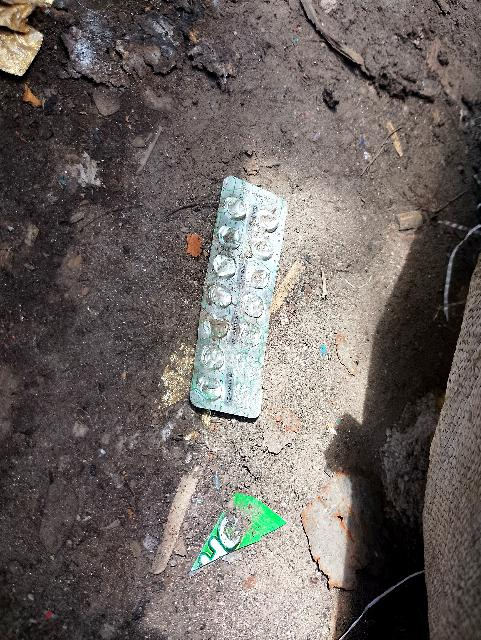medicine: (187, 170, 295, 423)
